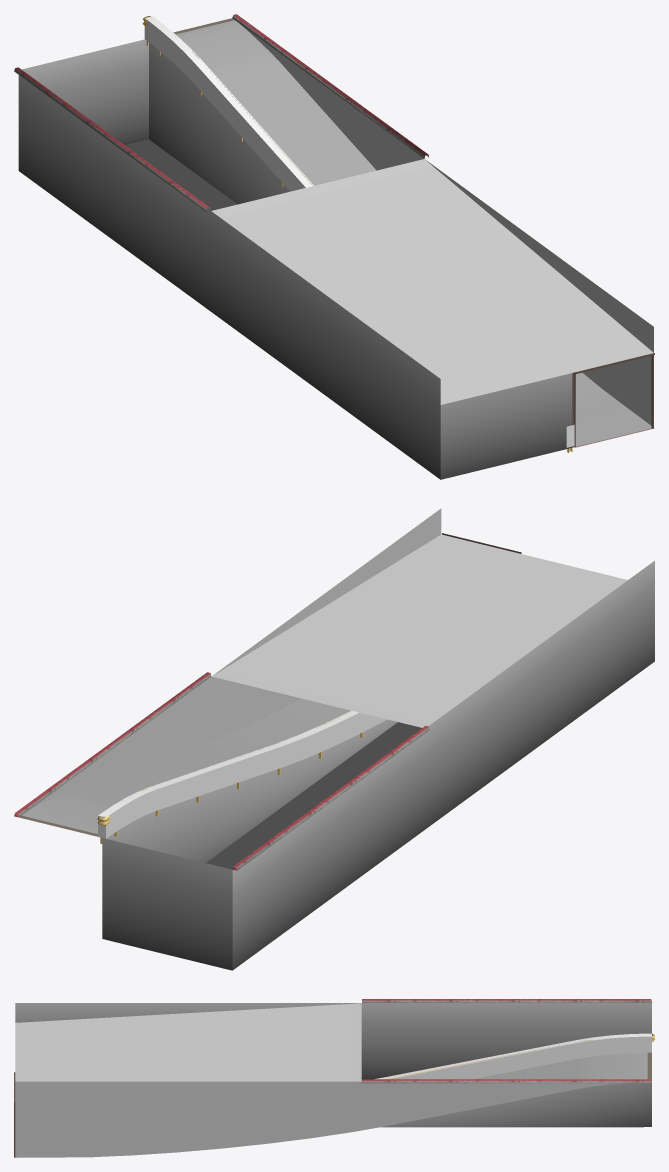
File: s_steel_factory_wall_int_02.dae
3 renders of one model, top to bottom at view 1: azimuth 30°, elevation 25°; view 2: azimuth 150°, elevation 25°; view 3: azimuth 270°, elevation 25°, orthographic. The views are drawn at different scales.
Parts seen in each view (by area): view 1: s_factory_wall_int_02_a1000, Colmesh_s_factory_wall_int_02-1; view 2: s_factory_wall_int_02_a1000, Colmesh_s_factory_wall_int_02-1; view 3: s_factory_wall_int_02_a1000, Colmesh_s_factory_wall_int_02-1.
Part boxes in pixels (bbox=[...]): s_factory_wall_int_02_a1000: bbox=[14, 14, 654, 479]; Colmesh_s_factory_wall_int_02-1: bbox=[144, 16, 574, 447]; s_factory_wall_int_02_a1000: bbox=[14, 508, 654, 970]; Colmesh_s_factory_wall_int_02-1: bbox=[98, 710, 387, 838]; s_factory_wall_int_02_a1000: bbox=[14, 999, 654, 1157]; Colmesh_s_factory_wall_int_02-1: bbox=[374, 1033, 651, 1079].
Size of the model in its own units: 9.37 by 30.92 by 5.09.
